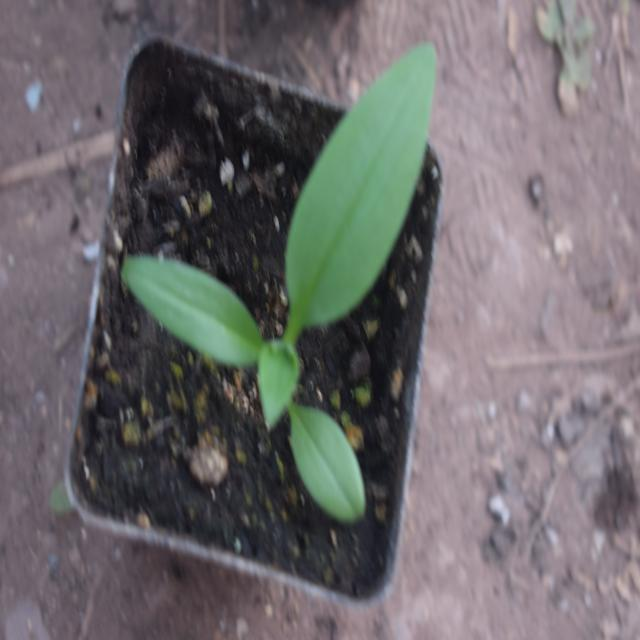Common Dayflower: (145, 36, 447, 548)
